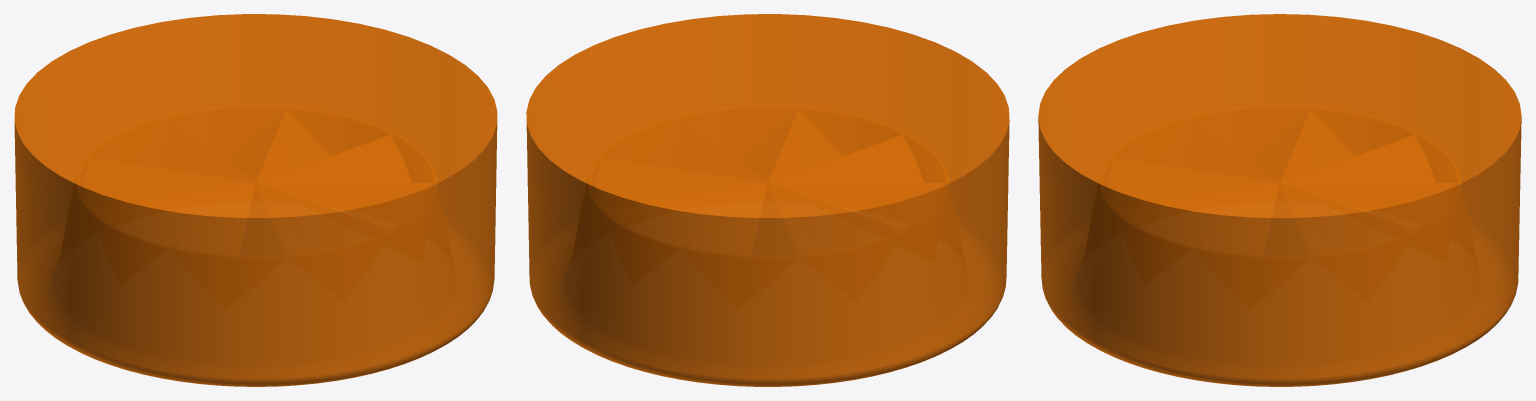
The model's file is Insert 0.625' Round, Starbust (PL-58ROS).fbx.
3 views of the same model, side by side, from view 1: azimuth 30°, elevation 25°; view 2: azimuth 150°, elevation 25°; view 3: azimuth 270°, elevation 25° (orthographic).
Parts seen in each view (by area): view 1: Insert 0.625' Round, Starbust (PL-58ROS); view 2: Insert 0.625' Round, Starbust (PL-58ROS); view 3: Insert 0.625' Round, Starbust (PL-58ROS).
Part boxes in pixels (bbox=[...]): Insert 0.625' Round, Starbust (PL-58ROS): bbox=[14, 14, 497, 386]; Insert 0.625' Round, Starbust (PL-58ROS): bbox=[526, 14, 1009, 386]; Insert 0.625' Round, Starbust (PL-58ROS): bbox=[1038, 14, 1521, 386].
Size of the model in its own units: 1.59 by 0.635 by 1.59.
